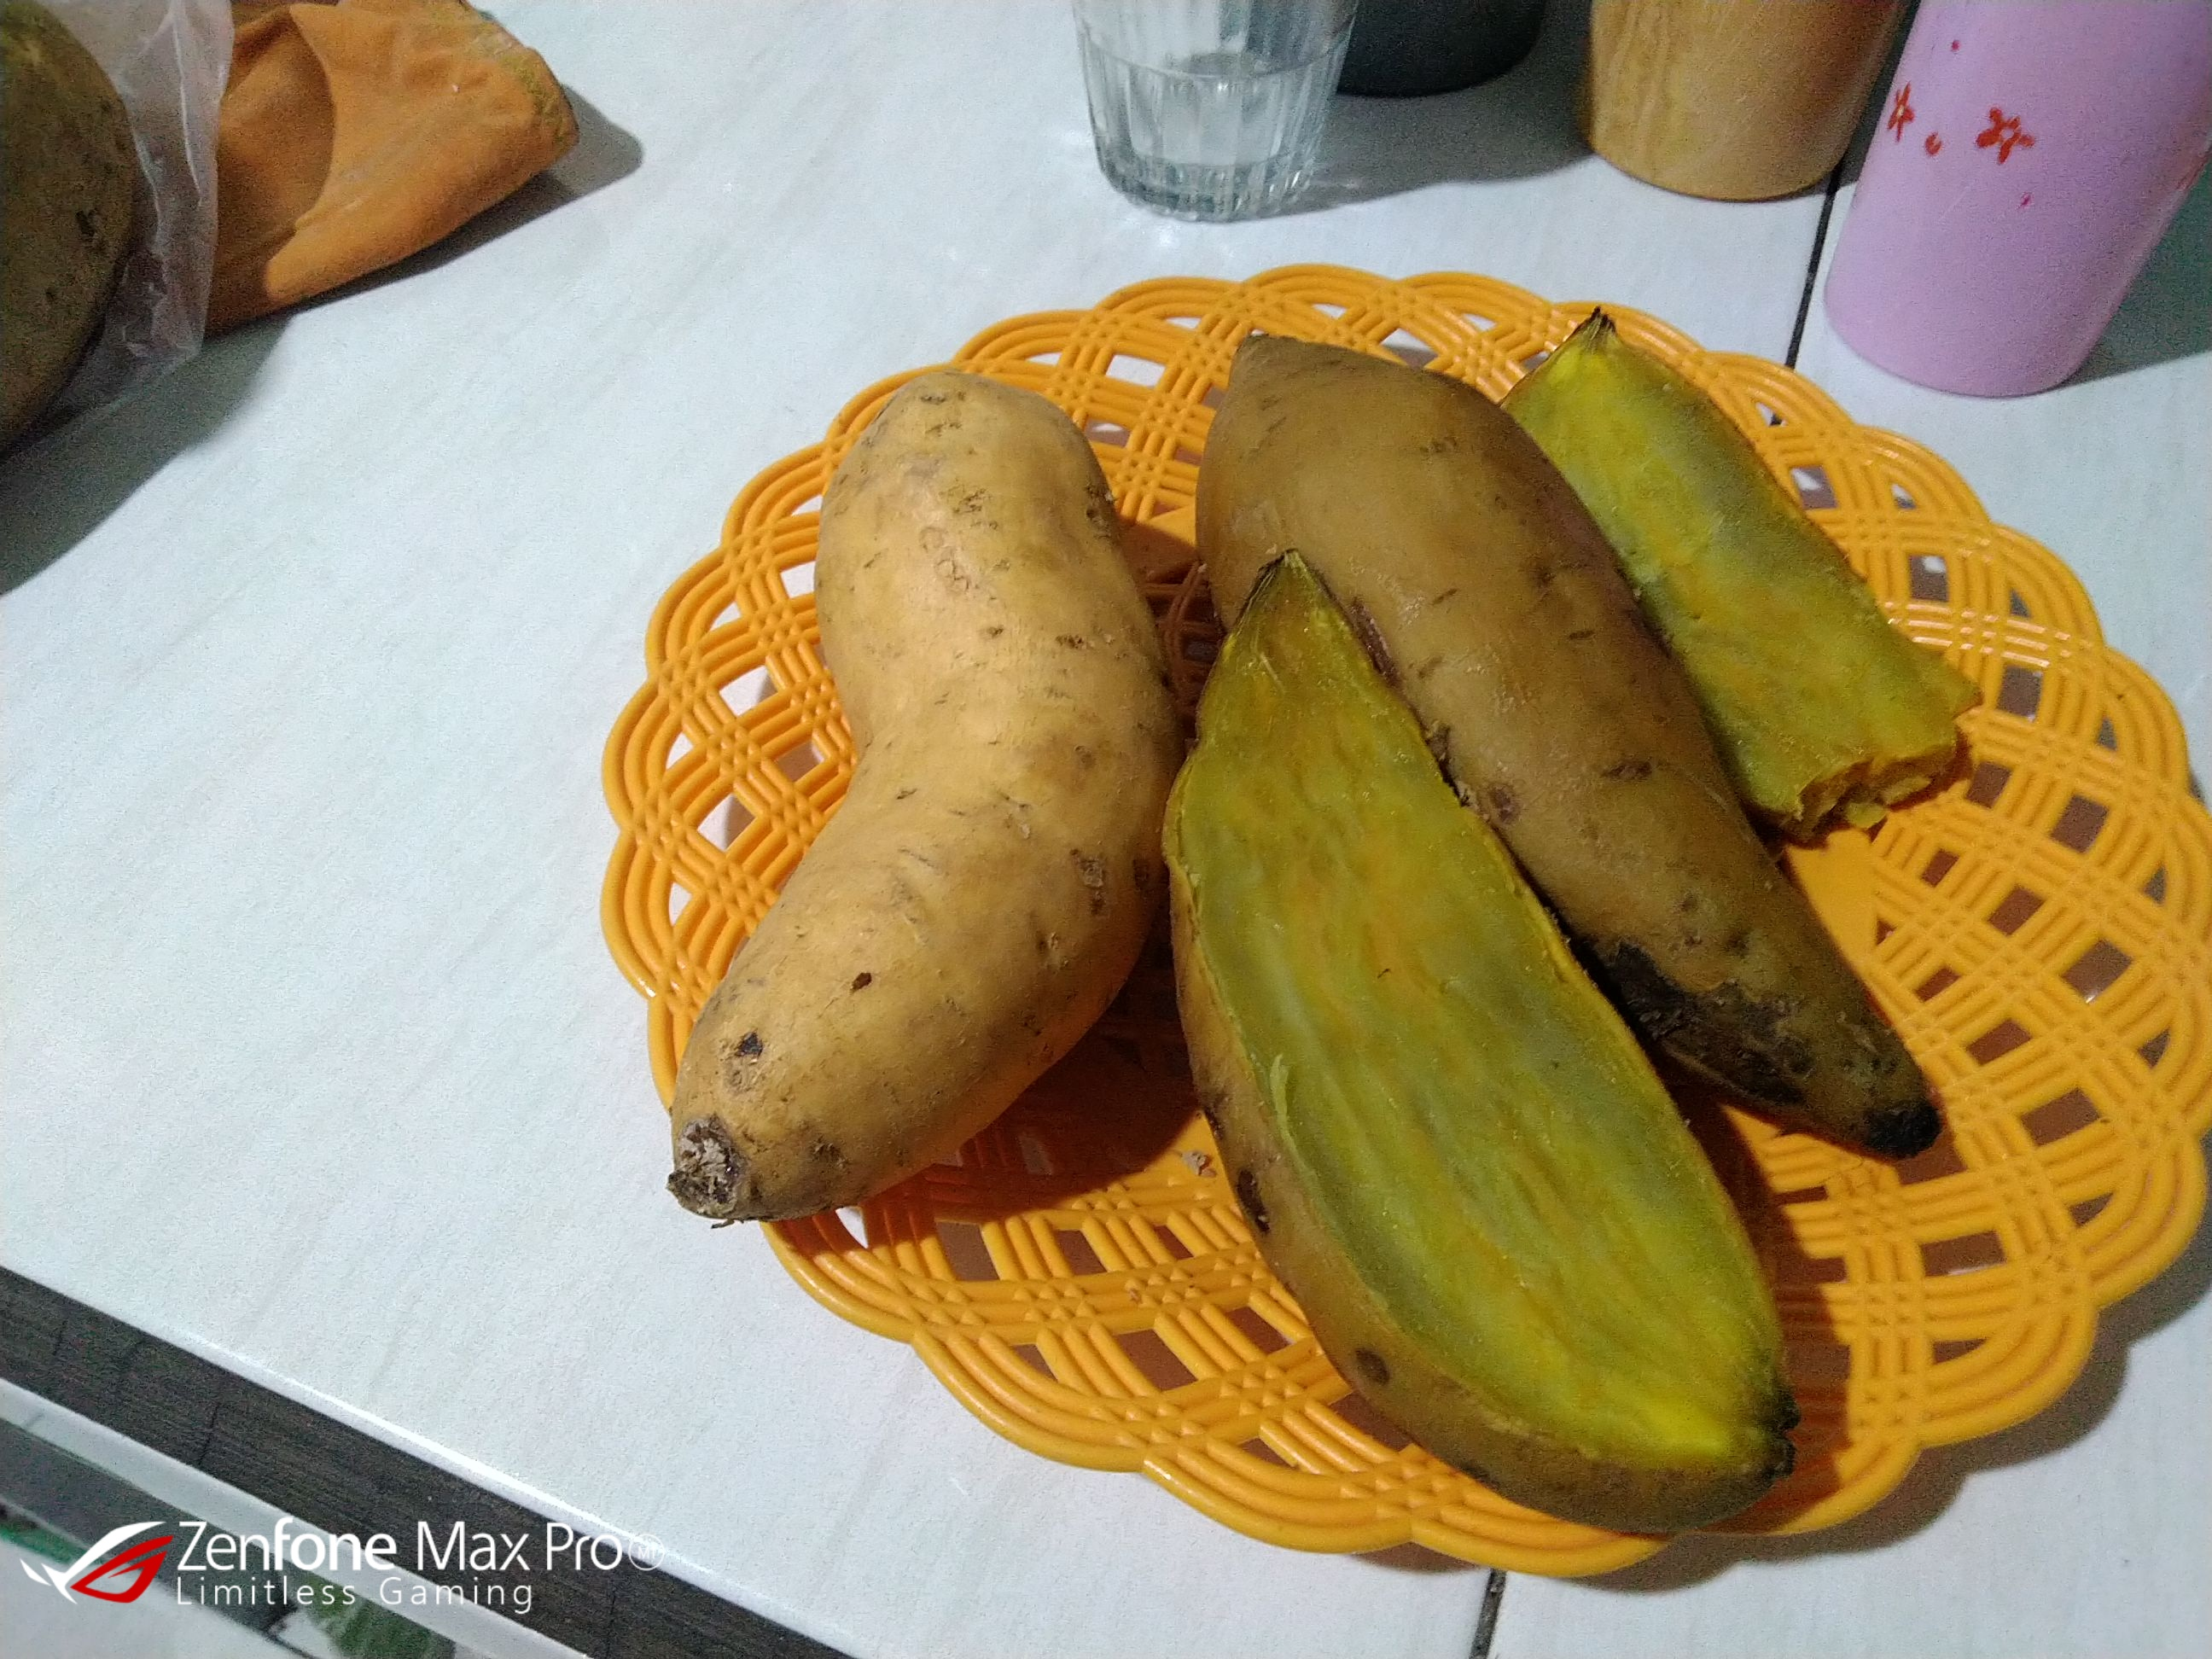ubi cilembu: (1144, 538, 1834, 1540), (651, 359, 1217, 1229), (1500, 291, 1965, 836)
